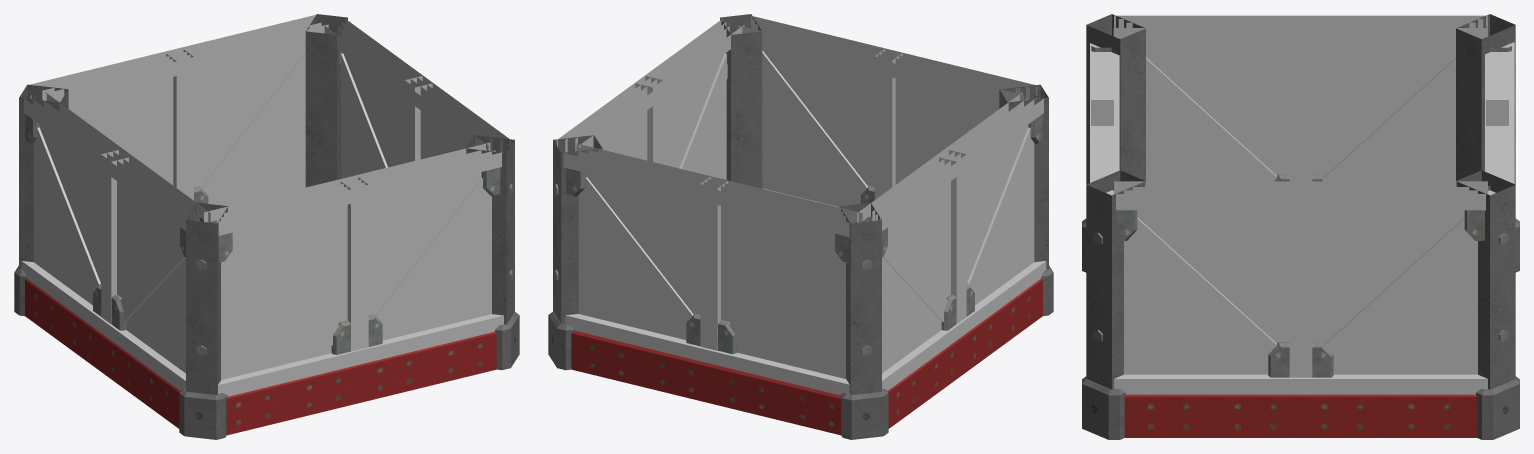
Rendered from Ob_WallQuad_RC.fbx.
3 views of the same model, side by side, from view 1: azimuth 30°, elevation 25°; view 2: azimuth 150°, elevation 25°; view 3: azimuth 270°, elevation 25° (orthographic). The views are drawn at different scales.
Parts seen in each view (by area): view 1: Ob_WallQuad_RC; view 2: Ob_WallQuad_RC; view 3: Ob_WallQuad_RC.
Boxes of the visible parts, bbox=[...] form: Ob_WallQuad_RC: bbox=[14, 14, 519, 439]; Ob_WallQuad_RC: bbox=[548, 14, 1053, 439]; Ob_WallQuad_RC: bbox=[1082, 14, 1519, 439].
Size of the model in its own units: 1635 by 1000 by 1635.
